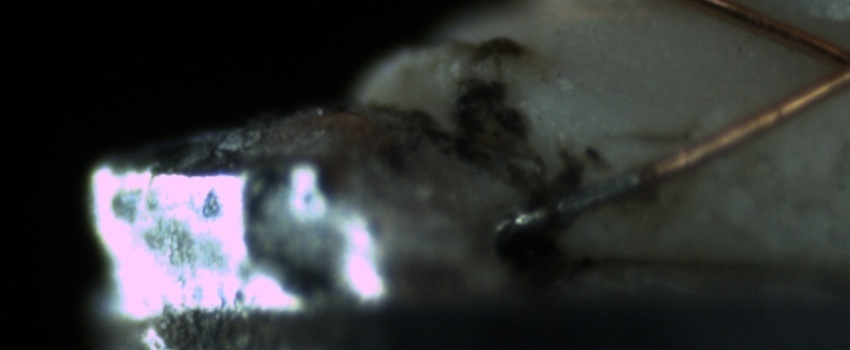CL: (805, 30, 850, 97)
TS: (503, 171, 649, 235)
